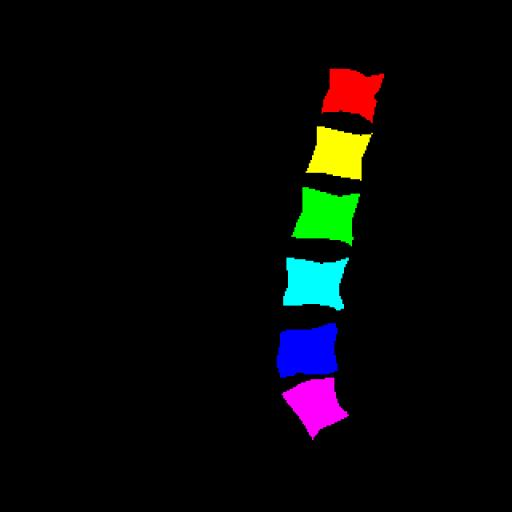L1: (322, 69, 384, 122)
L2: (306, 126, 371, 180)
L3: (292, 187, 360, 246)
L4: (284, 258, 348, 310)
L5: (277, 323, 337, 376)
S1: (282, 378, 348, 438)
